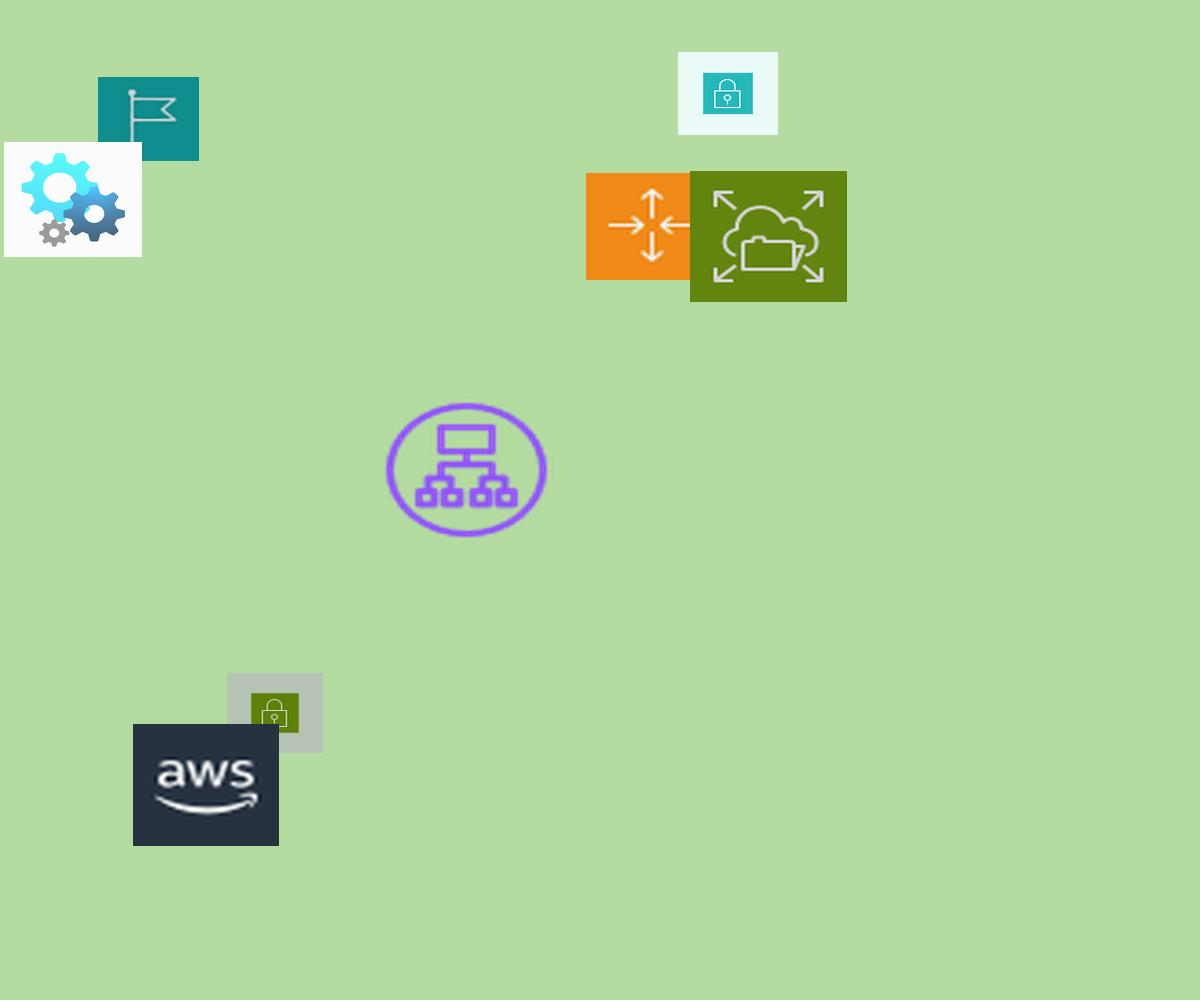AWS-Cloud-logo: (133, 724, 279, 846)
AWS-EFS: (690, 171, 847, 302)
AWS-Private-subnet: (678, 52, 778, 135)
AWS-Public-subnet: (227, 673, 323, 753)
AWS-Region: (98, 77, 199, 161)
AWS-Res_Elastic-Load-Balancing_Application-Load-Balancer: (379, 397, 554, 543)
AWS-Scaling-group: (586, 173, 715, 280)
Azure_api: (4, 142, 142, 257)
